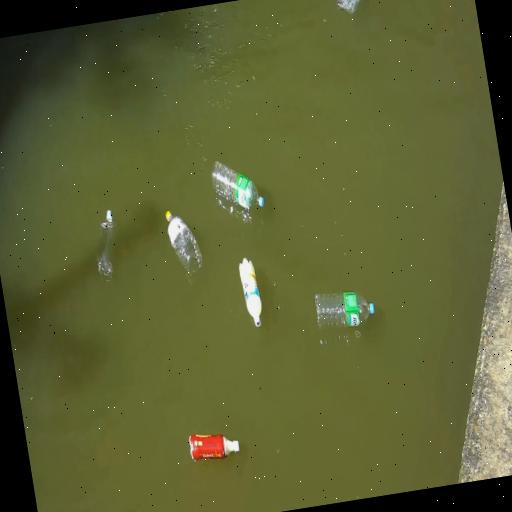plastic: (212, 161, 264, 210), (167, 212, 202, 273), (315, 292, 374, 327), (239, 258, 262, 327), (189, 434, 240, 460), (98, 210, 115, 280)
